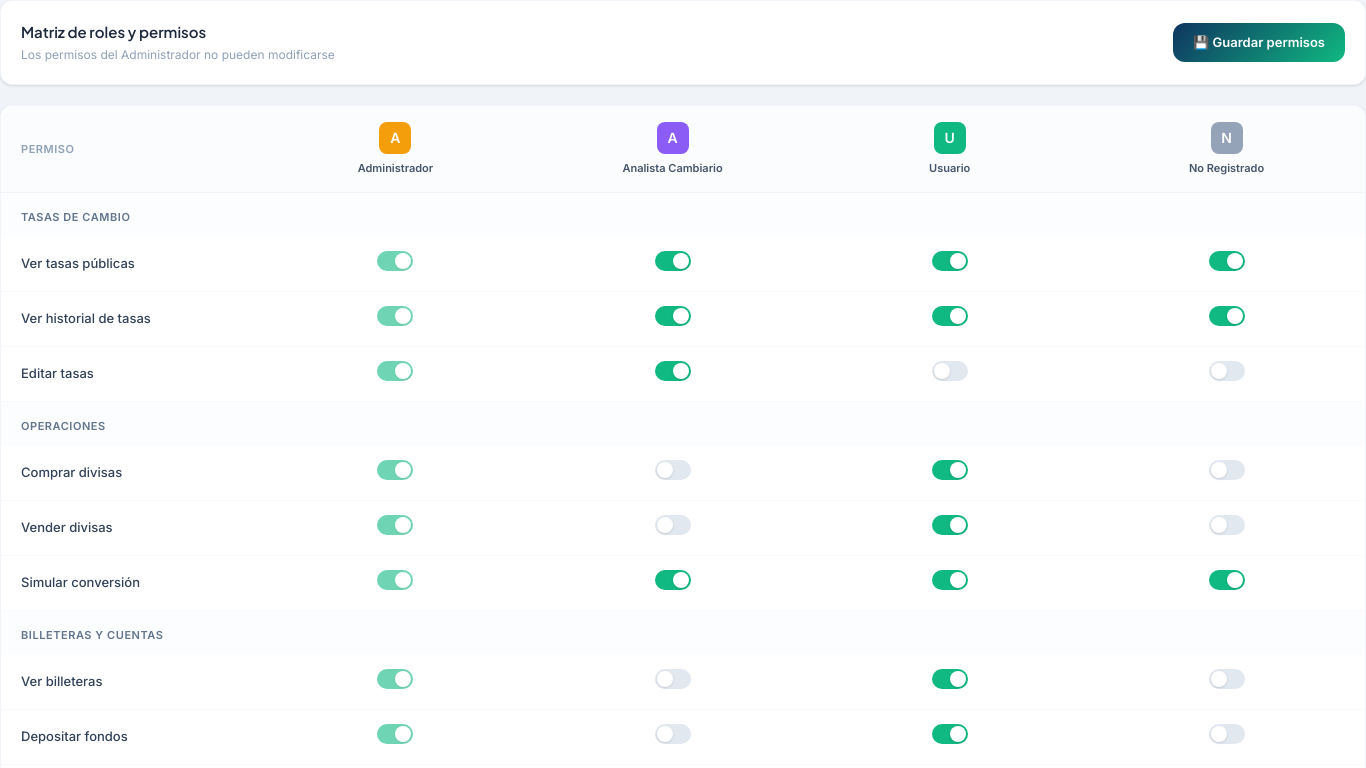
Test: RolesPermissions (matriz de roles y permisos) › guarda los cambios y muestra confirmación
The image size is (1366, 768).
Click the button "💾 Guardar permisos" at (1259, 42), box [1173,22,1345,62]
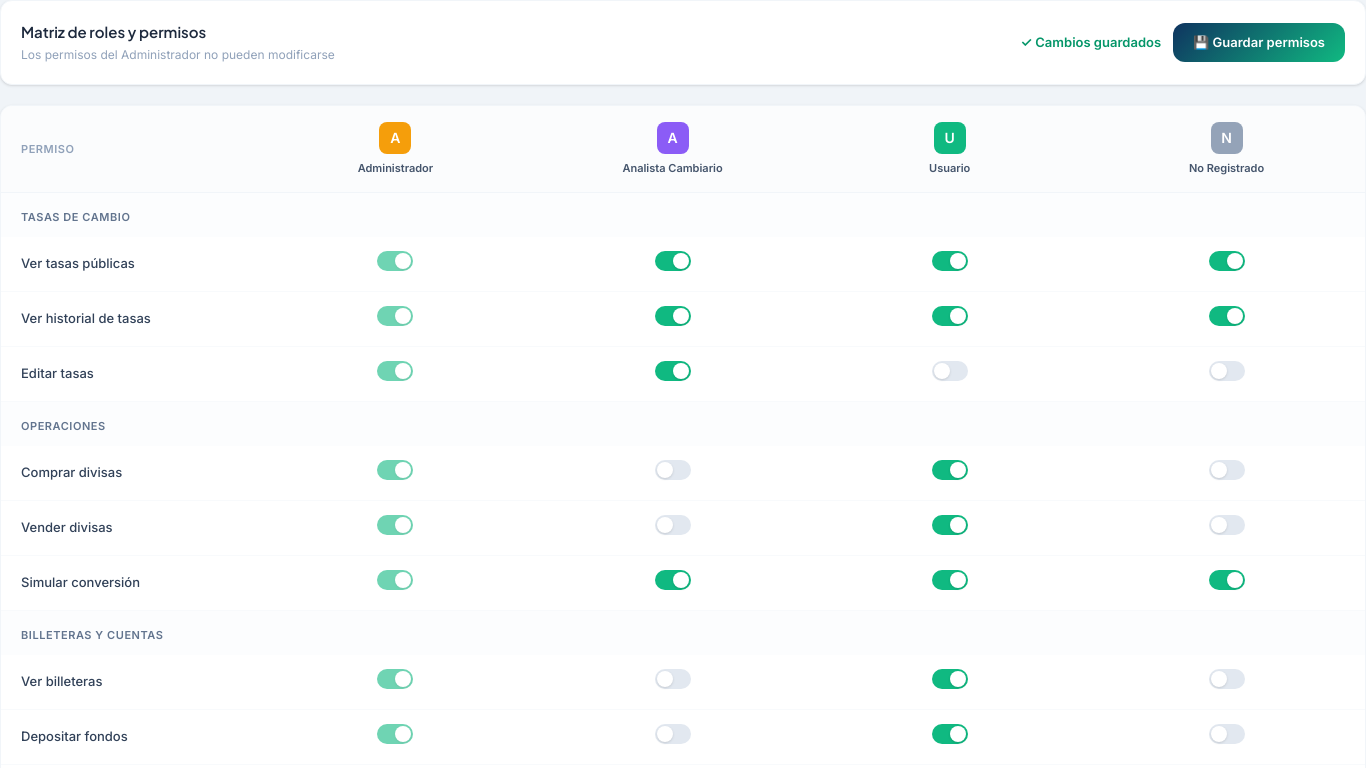
Check: the text "✓ Cambios guardados" is shown, box [1020,32,1161,52]
